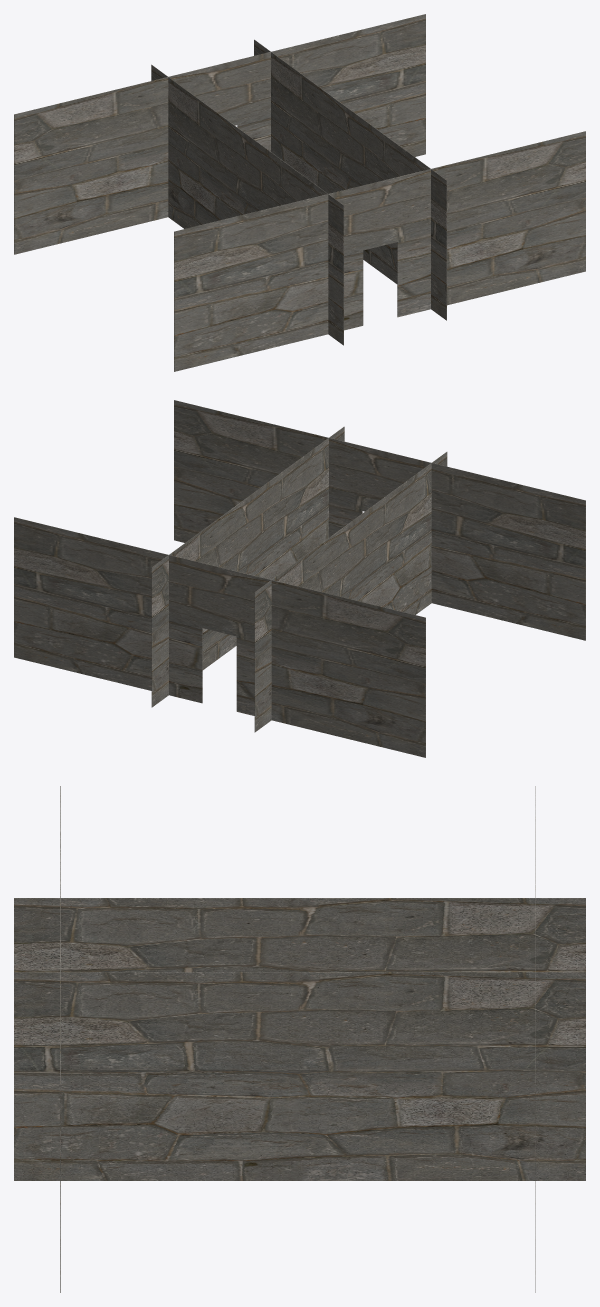
The model's file is muraCorridoio.fbx.
The picture shows the model from 3 angles, top to bottom: view 1: azimuth 30°, elevation 25°; view 2: azimuth 150°, elevation 25°; view 3: azimuth 270°, elevation 25°; orthographic projection. The views are drawn at different scales.
Parts seen in each view (by area): view 1: object_134, object_192, object_184.003, object_184.004; view 2: object_192, object_134, object_184.003, object_184.004; view 3: object_184.004, object_184.003.
Part boxes in pixels (<box>): object_134: <box>174,131,585,371</box>; object_192: <box>14,14,425,254</box>; object_184.003: <box>151,64,343,345</box>; object_184.004: <box>254,39,446,320</box>; object_192: <box>14,517,425,757</box>; object_134: <box>174,400,585,640</box>; object_184.003: <box>254,452,447,732</box>; object_184.004: <box>151,426,344,707</box>; object_184.004: <box>14,972,585,1180</box>; object_184.003: <box>14,898,585,972</box>.
Size of the model in its own units: 1200 by 390 by 972.
